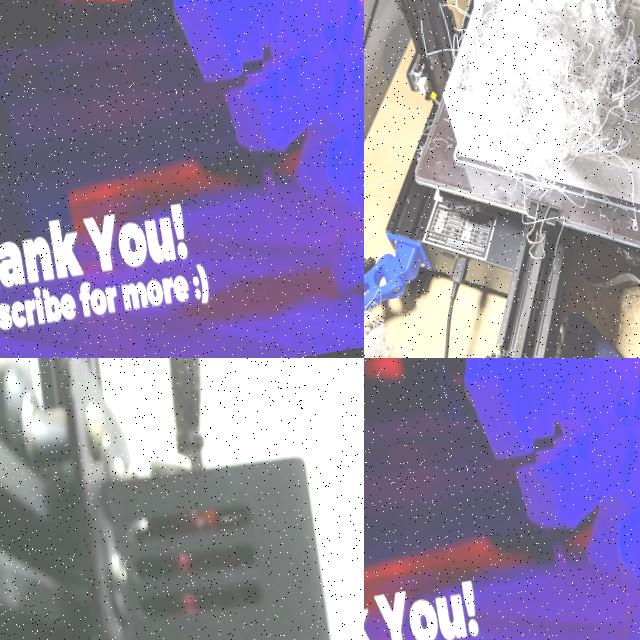spaghetti: (393, 0, 640, 276), (364, 289, 468, 358)
